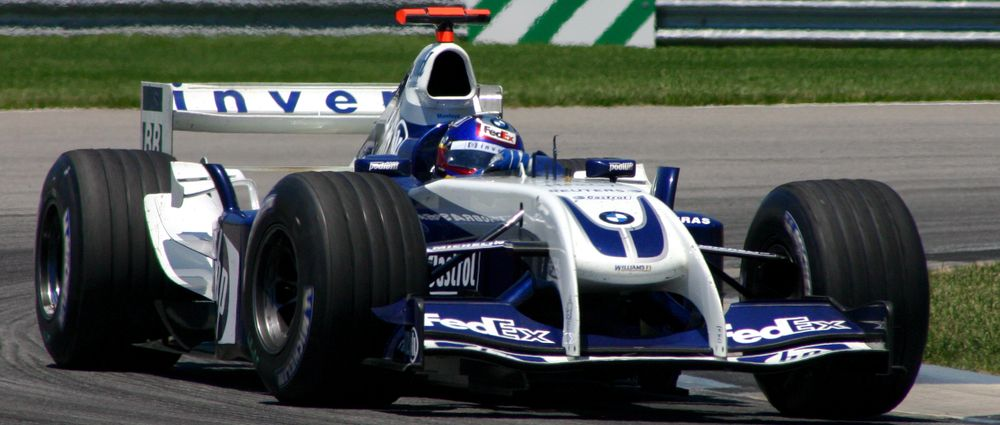f1_car: (30, 1, 941, 425)
